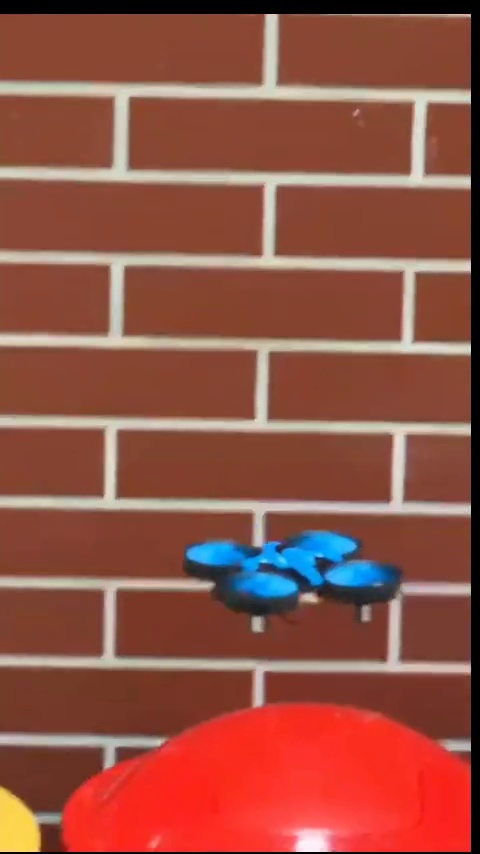drone: (187, 528, 401, 628)
